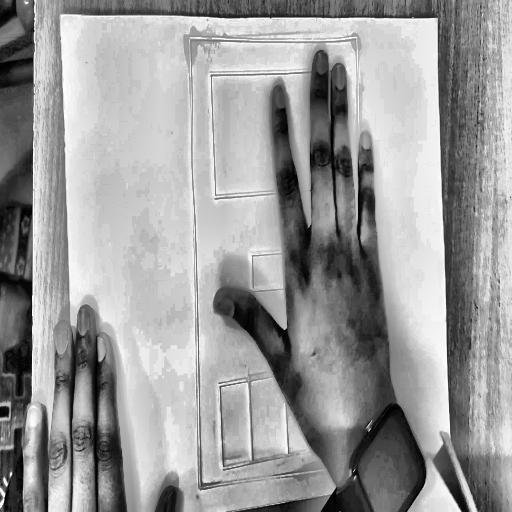bottom_right: (450, 465, 456, 475)
door: (183, 24, 378, 499)
top_left: (59, 11, 64, 20)
top_right: (436, 16, 440, 22)
